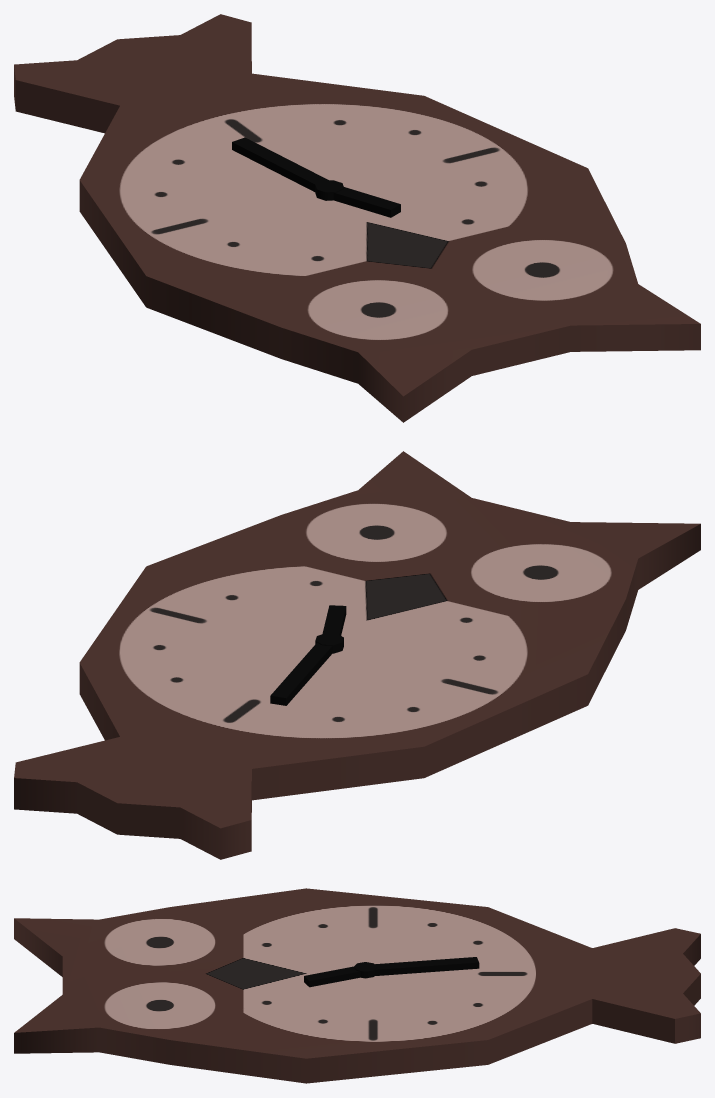
File: Clock.fbx
3 views of the same model, one above another, from view 1: azimuth 30°, elevation 25°; view 2: azimuth 150°, elevation 25°; view 3: azimuth 270°, elevation 25° (orthographic). The views are drawn at different scales.
Visible parts, largest first — view 1: Cylinder001, Box002, Box001; view 2: Cylinder001, Box002; view 3: Cylinder001, Box002, Box001.
Part boxes in pixels (box(x1,y1,x2,y2)): Cylinder001: box(14, 14, 700, 422); Box002: box(232, 137, 328, 191); Box001: box(333, 187, 400, 217); Cylinder001: box(14, 451, 700, 859); Box002: box(270, 642, 332, 705); Cylinder001: box(14, 888, 700, 1083); Box002: box(374, 957, 479, 975); Box001: box(304, 966, 360, 987).
Bounding box in the file's own units: 147 × 12.7 × 250.
Materials: 2 (1 with a texture image).
